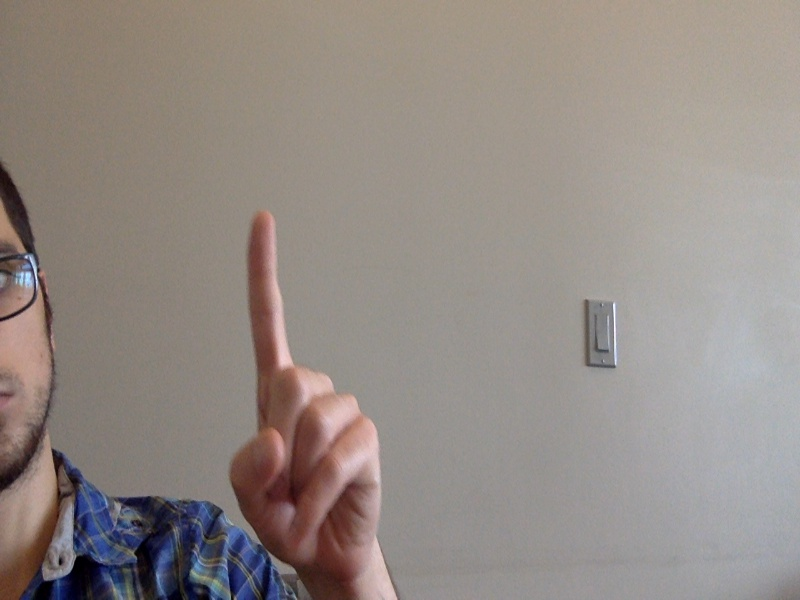1-hand: (229, 208, 388, 582)
